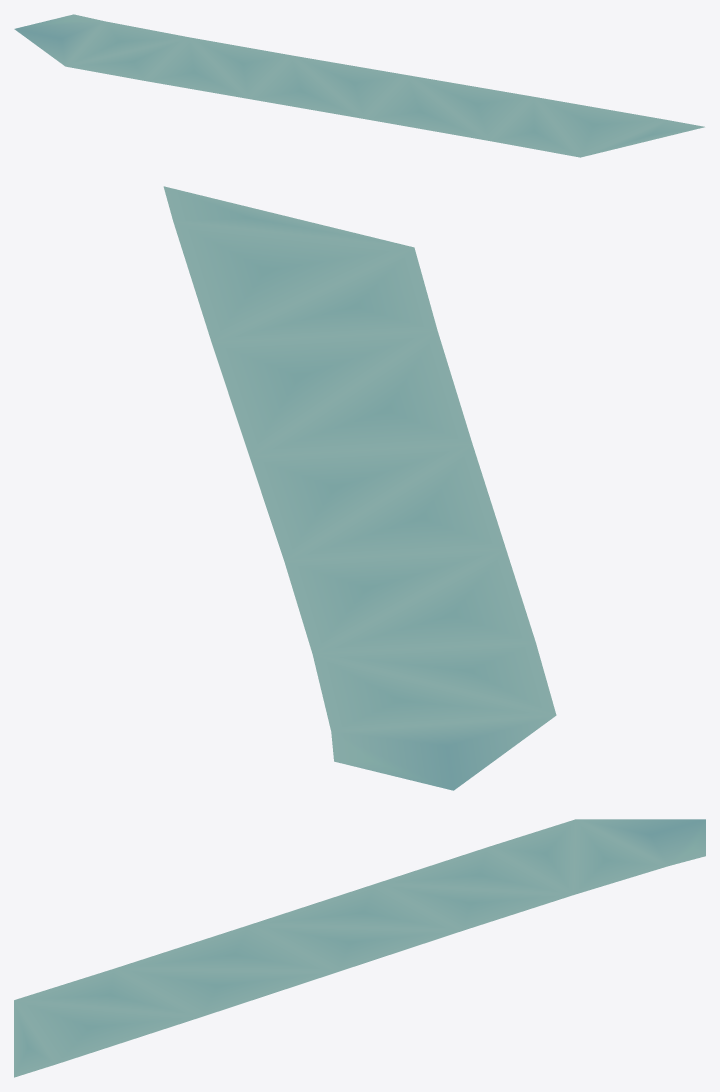
Rendered from water-15-15.glb.
3 views of the same model, one above another, from view 1: azimuth 30°, elevation 25°; view 2: azimuth 150°, elevation 25°; view 3: azimuth 270°, elevation 25° (orthographic). The views are drawn at different scales.
Bounding box in the file's own units: 14.14 × 0 × 16.
